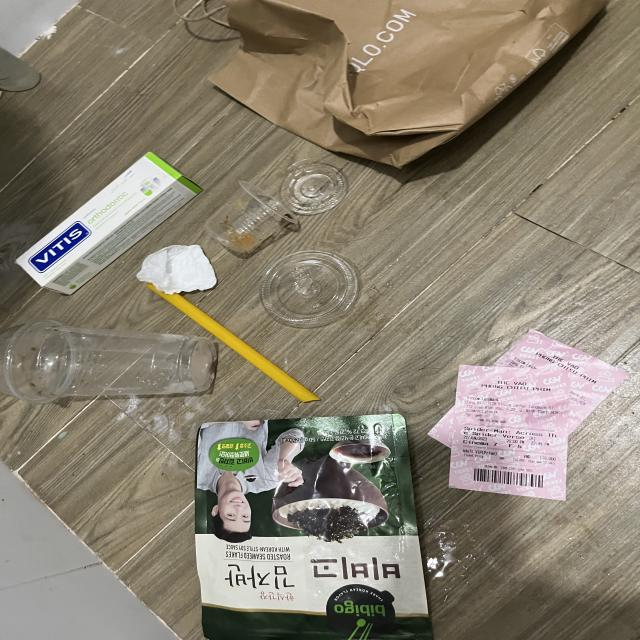bag: (172, 0, 608, 169)
cardboard box: (15, 152, 203, 296)
drinking straw: (145, 284, 323, 404)
lid: (260, 249, 362, 329), (279, 160, 347, 212)
napkin: (138, 244, 218, 293)
paper: (428, 327, 627, 502)
plastic glass: (0, 319, 217, 404), (204, 180, 298, 254)
snack package: (196, 411, 434, 640)
